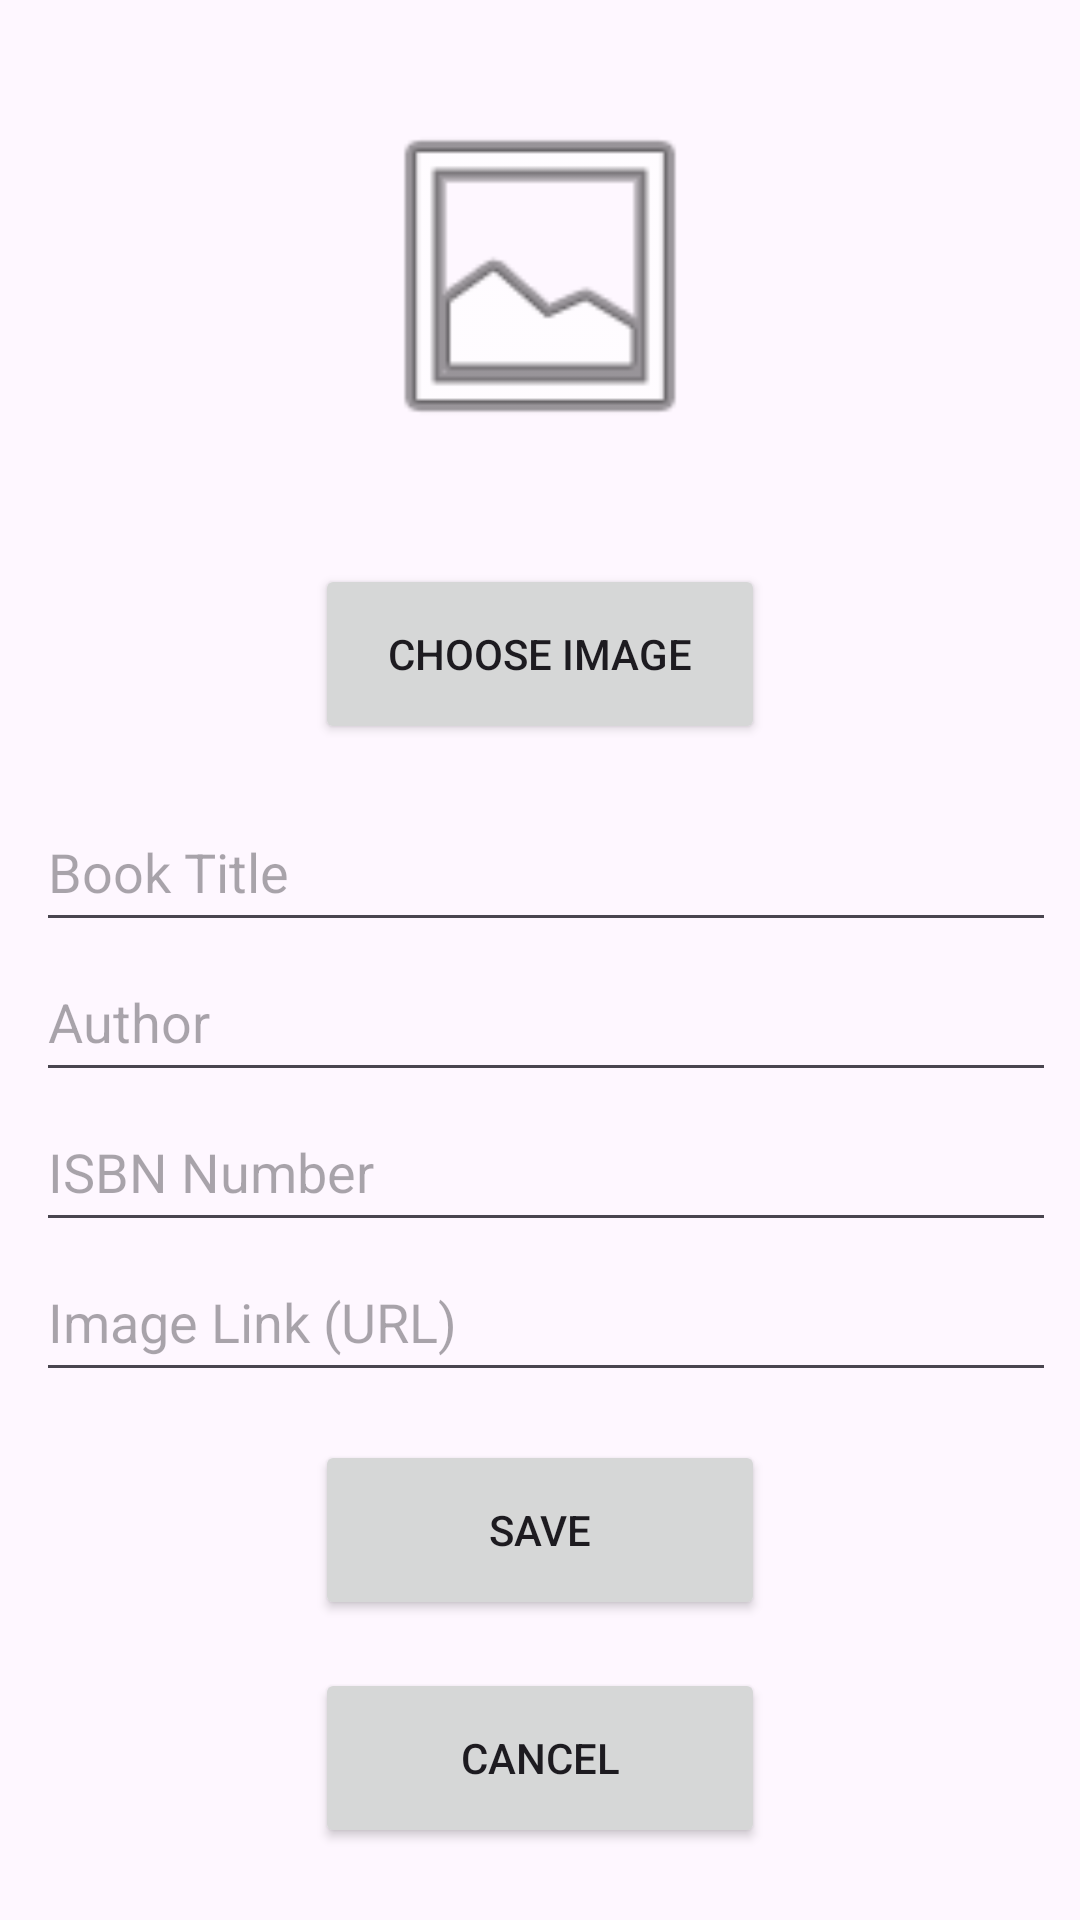

Icon click points for this 1080*1920 phone screenshot, format point (x, y):
gallery: point (540, 276)
